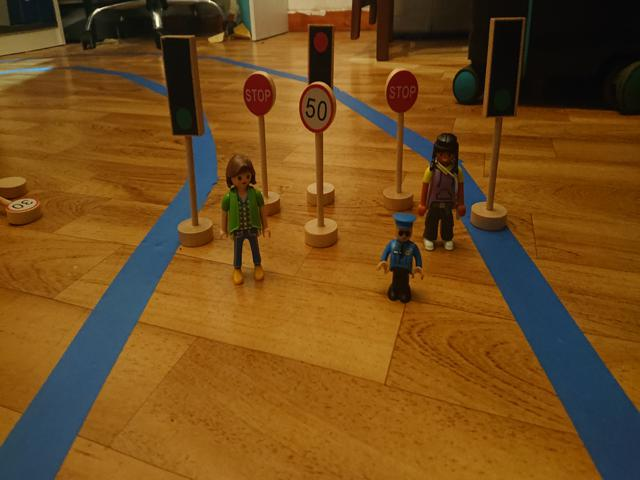50 speed sign: (299, 83, 334, 134)
green light: (164, 42, 197, 136), (493, 22, 517, 115)
person: (218, 154, 272, 285), (418, 131, 468, 257), (376, 213, 422, 305)
red light: (308, 26, 331, 80)
stop sign: (386, 69, 421, 114), (240, 74, 274, 116)
